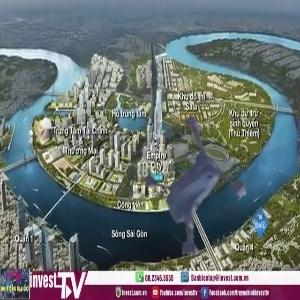drone: (125, 131, 278, 284)
